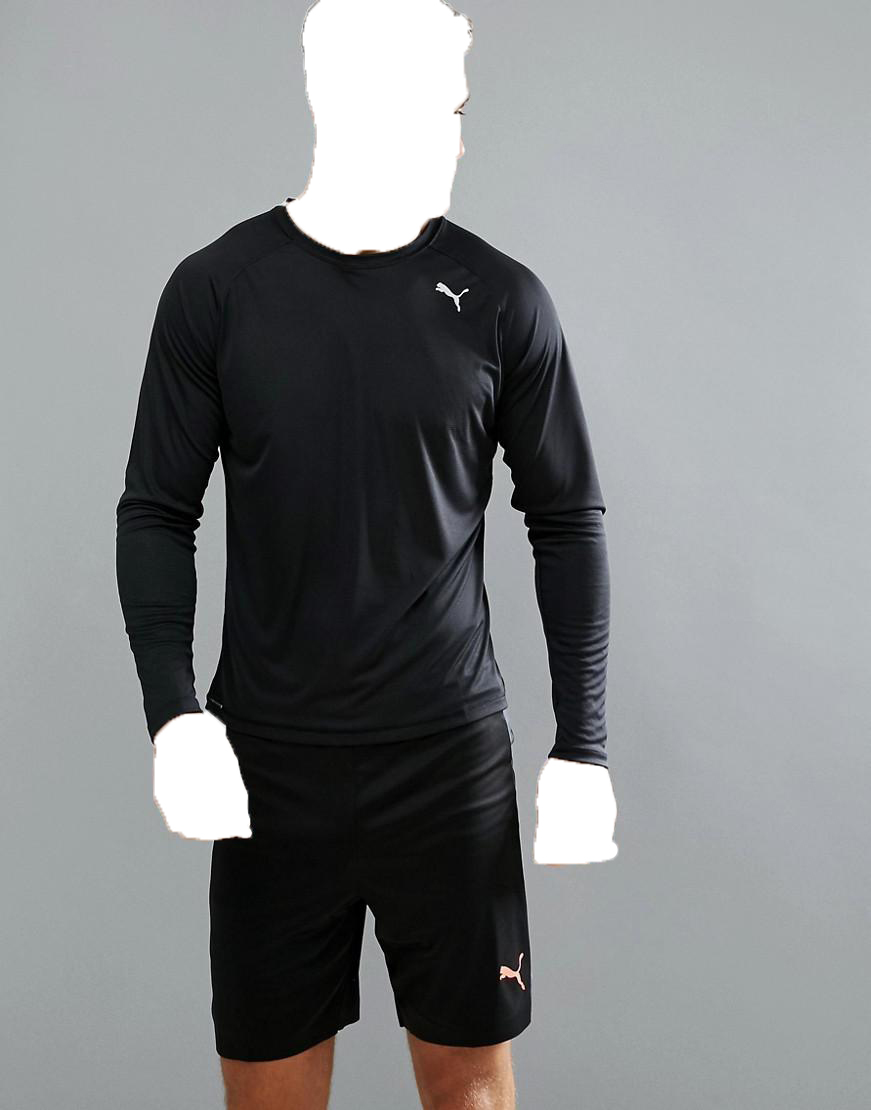teeshirt: (107, 210, 632, 776)
